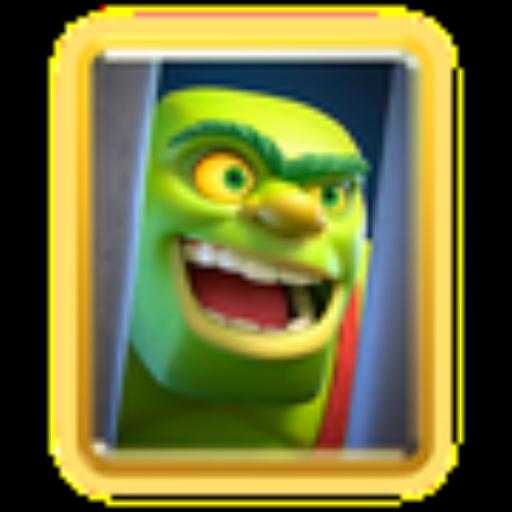goblin-cage: (122, 62, 402, 450)
